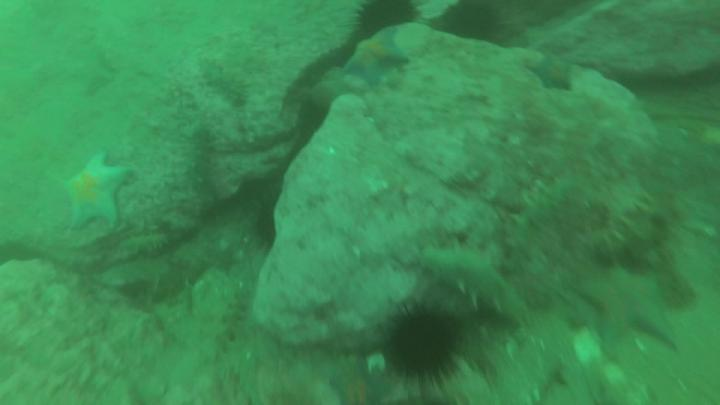echinus: (382, 300, 459, 388), (353, 2, 422, 38)
holothurian: (412, 246, 531, 324), (587, 176, 656, 257), (513, 168, 584, 229), (221, 283, 261, 388), (197, 57, 250, 107)
starfish: (575, 259, 686, 361), (59, 152, 133, 231), (340, 30, 410, 93), (525, 47, 579, 95), (328, 361, 386, 405)
